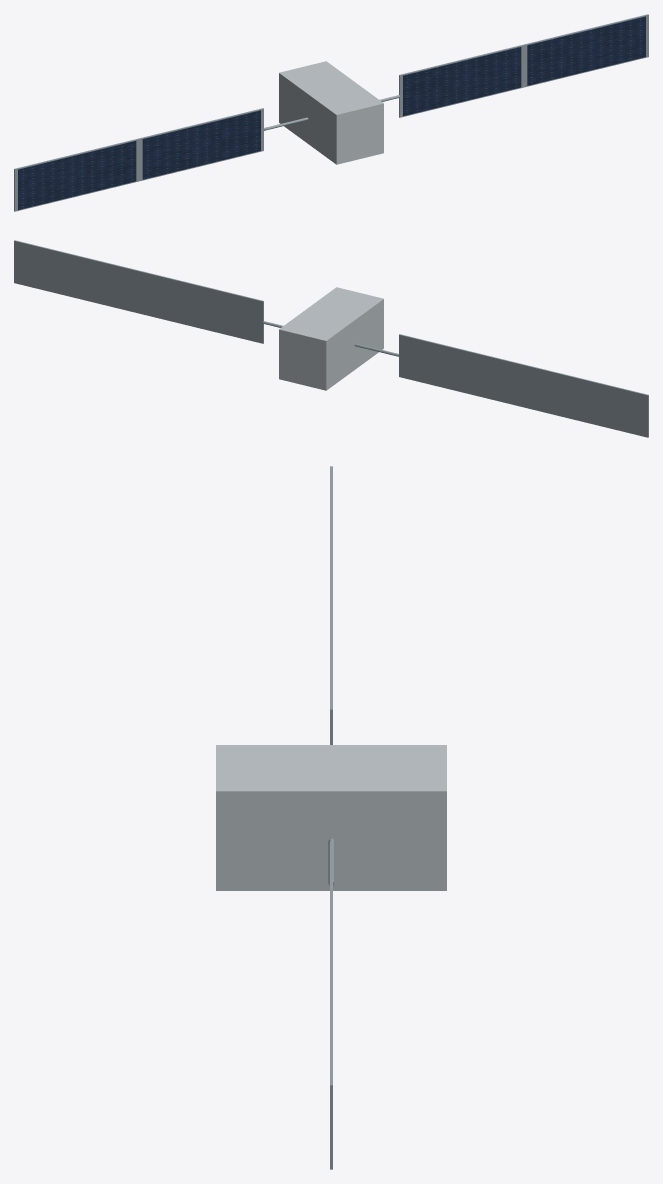
The model's file is ref-nebula-58616.glb.
3 views of the same model, one above another, from view 1: azimuth 30°, elevation 25°; view 2: azimuth 150°, elevation 25°; view 3: azimuth 270°, elevation 25° (orthographic). The views are drawn at different scales.
Visible parts, largest first — view 1: Photovoltaic laminates (×4), Spacecraft body, Array frame (×4); view 2: Array frame (×4), Spacecraft body; view 3: Spacecraft body.
Part boxes in pixels (x1=…): Photovoltaic laminates (×4): x1=18, y1=16, x2=645, y2=209; Spacecraft body: x1=279, y1=61, x2=383, y2=164; Array frame (×4): x1=14, y1=14, x2=648, y2=211; Array frame (×4): x1=14, y1=240, x2=648, y2=437; Spacecraft body: x1=279, y1=287, x2=383, y2=390; Spacecraft body: x1=216, y1=745, x2=446, y2=890.
Size of the model in its own units: 5.2 by 0.39 by 0.82.
3 materials, 1 textured.
